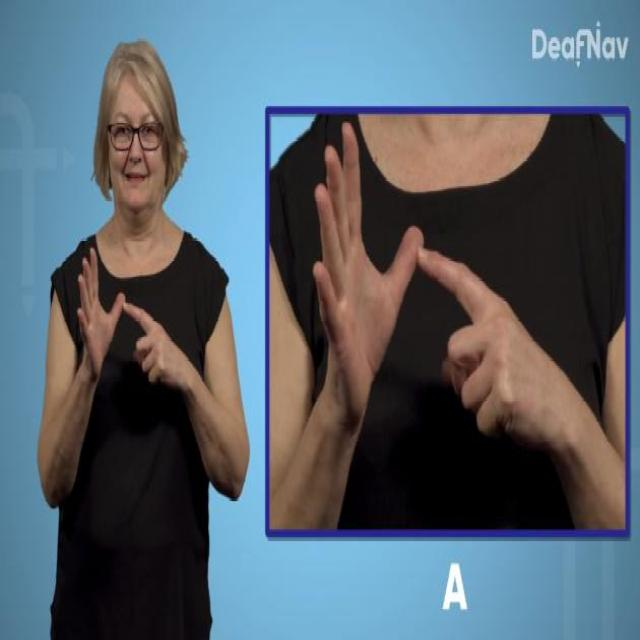A: (311, 121, 521, 446), (77, 244, 170, 387)
